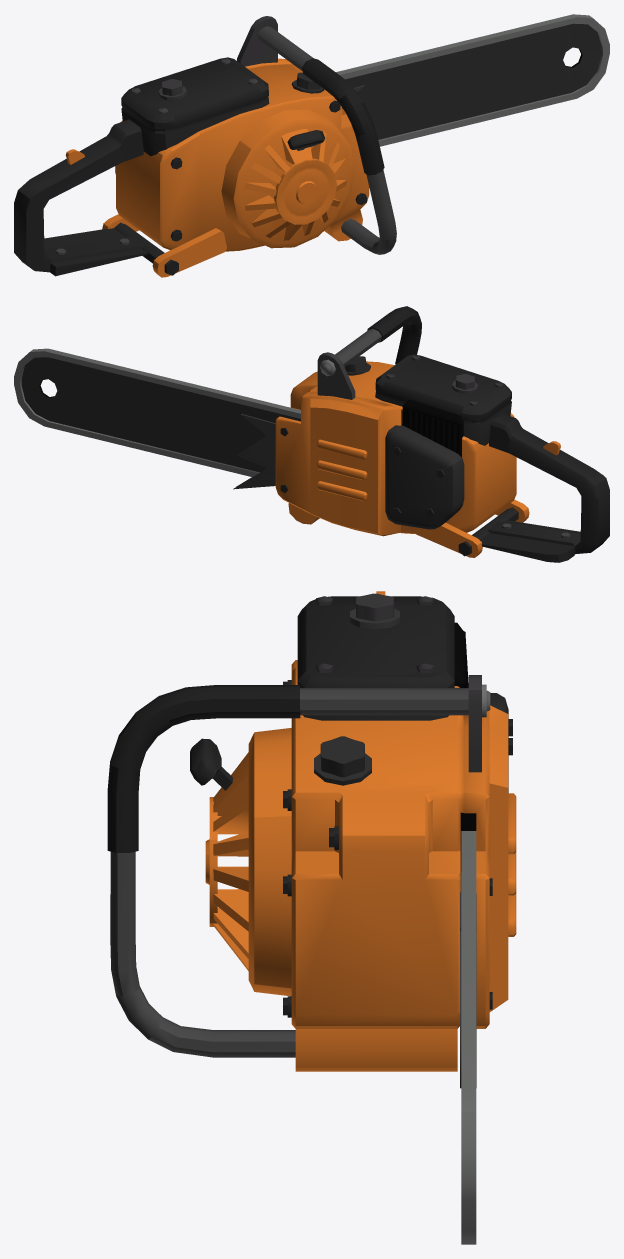
File: SM_Chainsaw_01.glb
3 renders of one model, top to bottom at view 1: azimuth 30°, elevation 25°; view 2: azimuth 150°, elevation 25°; view 3: azimuth 270°, elevation 25°, orthographic. The views are drawn at different scales.
Visible parts, largest first — view 1: SM_Chainsaw_01; view 2: SM_Chainsaw_01; view 3: SM_Chainsaw_01.
Part boxes in pixels (<box>): SM_Chainsaw_01: <box>14,14,609,277</box>; SM_Chainsaw_01: <box>14,306,609,562</box>; SM_Chainsaw_01: <box>107,591,516,1244</box>.
Bounding box in the file's own units: 1.21 × 0.3684 × 0.3784.
1 material, 1 textured.
